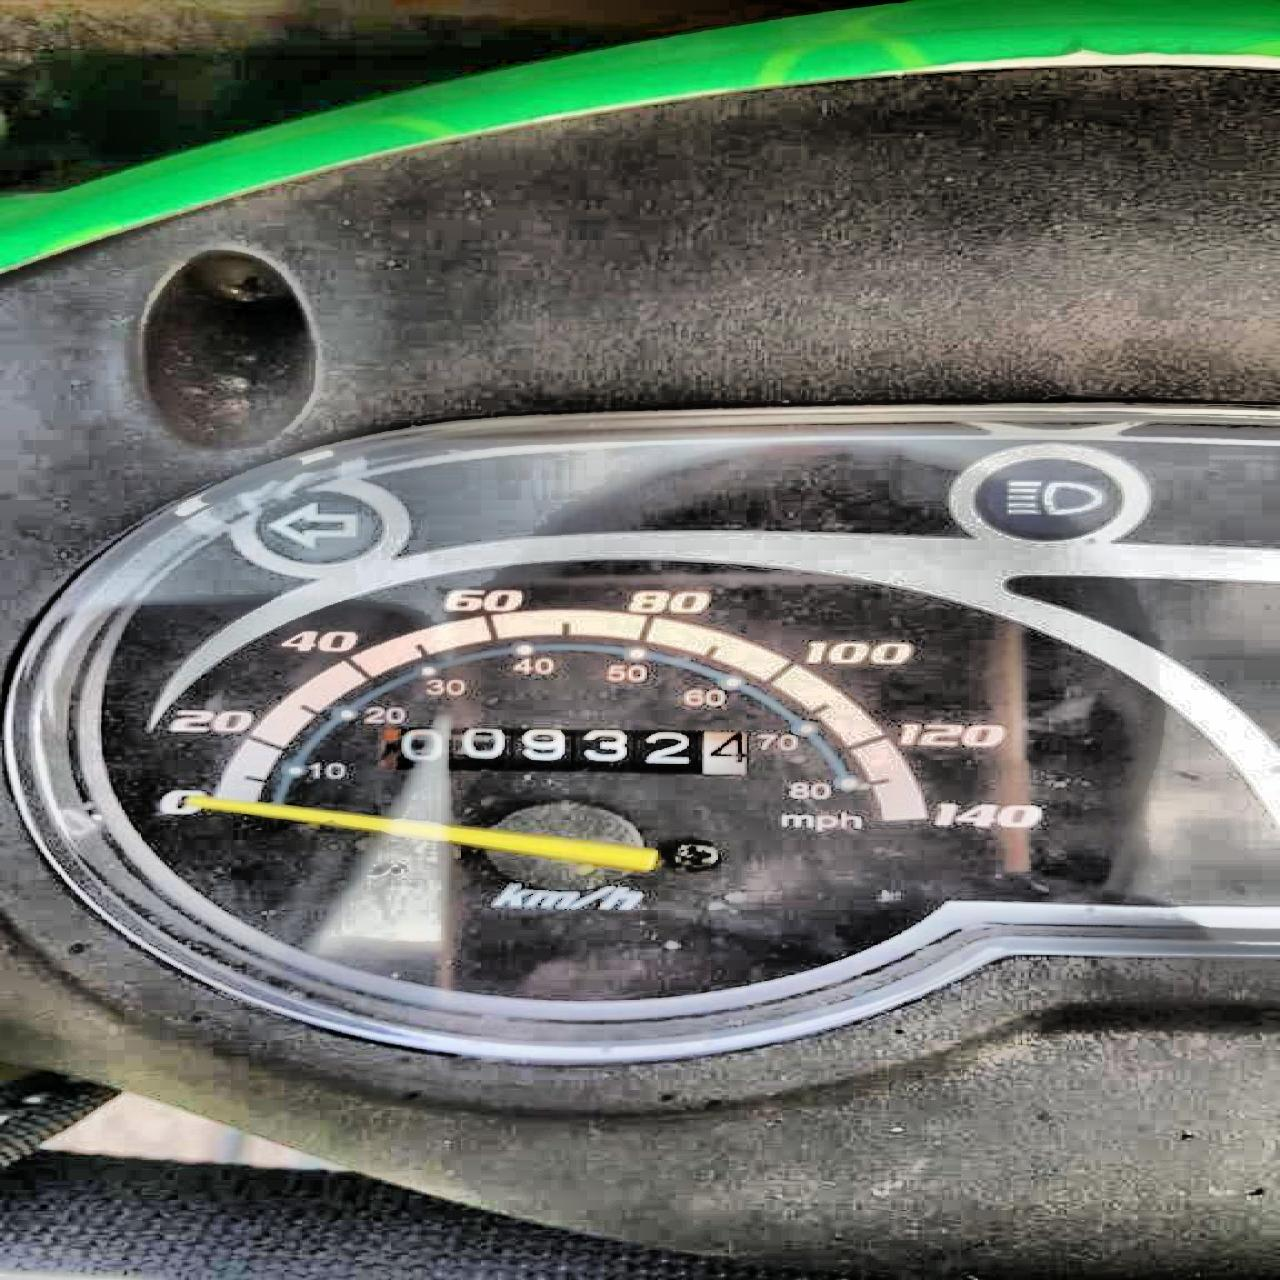0: (455, 726, 509, 760), (395, 727, 444, 763)
2: (640, 729, 693, 765)
3: (578, 727, 629, 763)
4: (707, 729, 749, 765)
9: (516, 726, 566, 761)
odometer: (369, 720, 755, 779)
